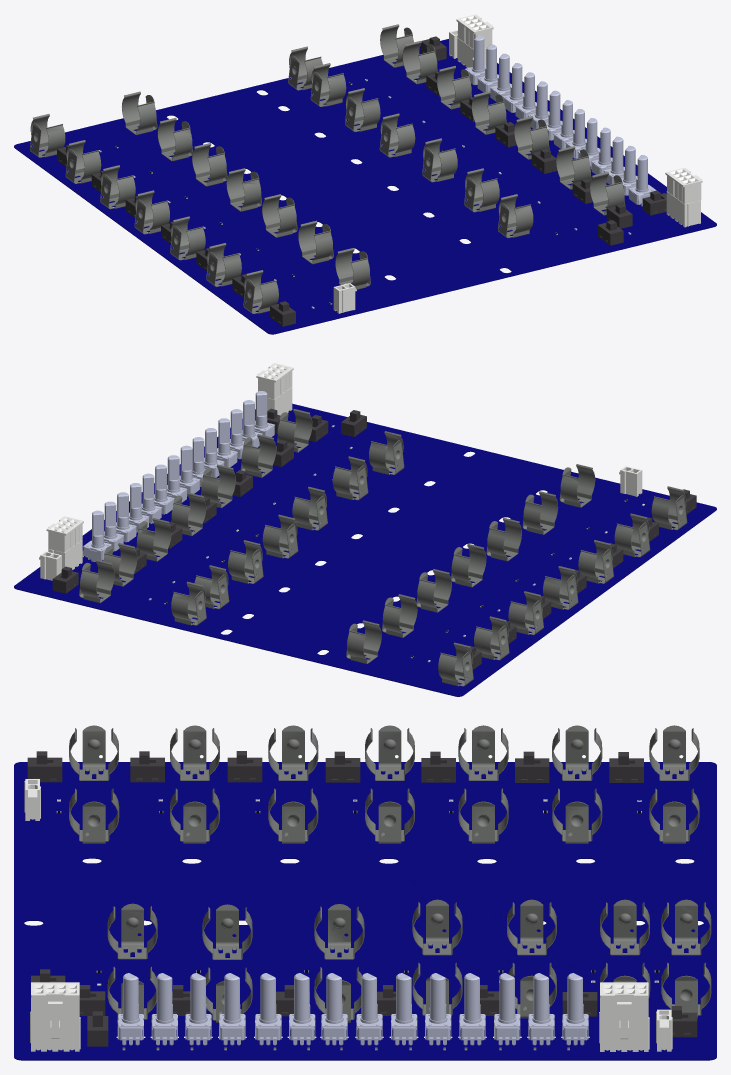
The model's file is pseudo-segment.glb.
The picture shows the model from 3 angles, top to bottom: view 1: azimuth 30°, elevation 25°; view 2: azimuth 150°, elevation 25°; view 3: azimuth 270°, elevation 25°; orthographic projection. The views are drawn at different scales.
Visible parts, largest first — view 1: Open CASCADE STEP translator 7.5 1; view 2: Open CASCADE STEP translator 7.5 1; view 3: Open CASCADE STEP translator 7.5 1.
Boxes of the visible parts, box(x1,y1,x2,y2) form: Open CASCADE STEP translator 7.5 1: box(14, 14, 716, 334); Open CASCADE STEP translator 7.5 1: box(14, 363, 716, 696); Open CASCADE STEP translator 7.5 1: box(14, 725, 716, 1060).
Size of the model in its own units: 0.2616 by 0.0298 by 0.2612.
1 material, 1 textured.
